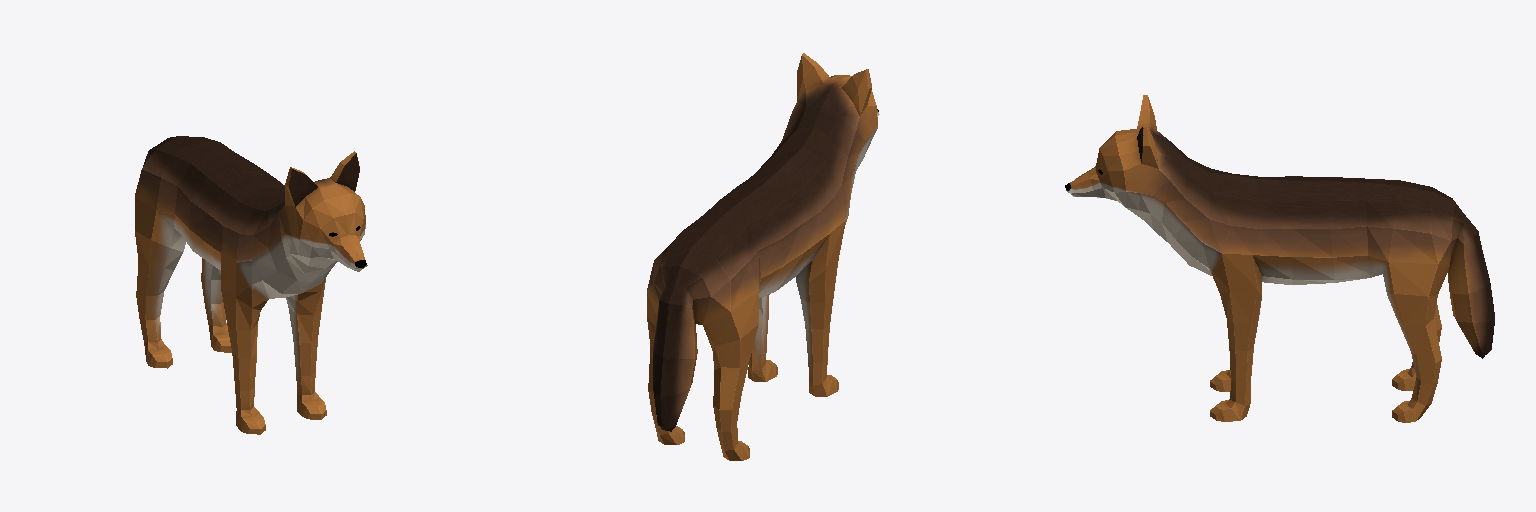
3 views of the same model, side by side, from view 1: azimuth 30°, elevation 25°; view 2: azimuth 150°, elevation 25°; view 3: azimuth 270°, elevation 25° (orthographic).
Parts seen in each view (by area): view 1: Coyote_Mesh; view 2: Coyote_Mesh; view 3: Coyote_Mesh.
Part boxes in pixels (left/top/right/bottom): Coyote_Mesh: left=135, top=136, right=367, bottom=434; Coyote_Mesh: left=647, top=53, right=879, bottom=460; Coyote_Mesh: left=1065, top=95, right=1494, bottom=422.
Bounding box in the file's own units: 1.8 × 5.11 × 6.85.
Materials: 1 (1 with a texture image).